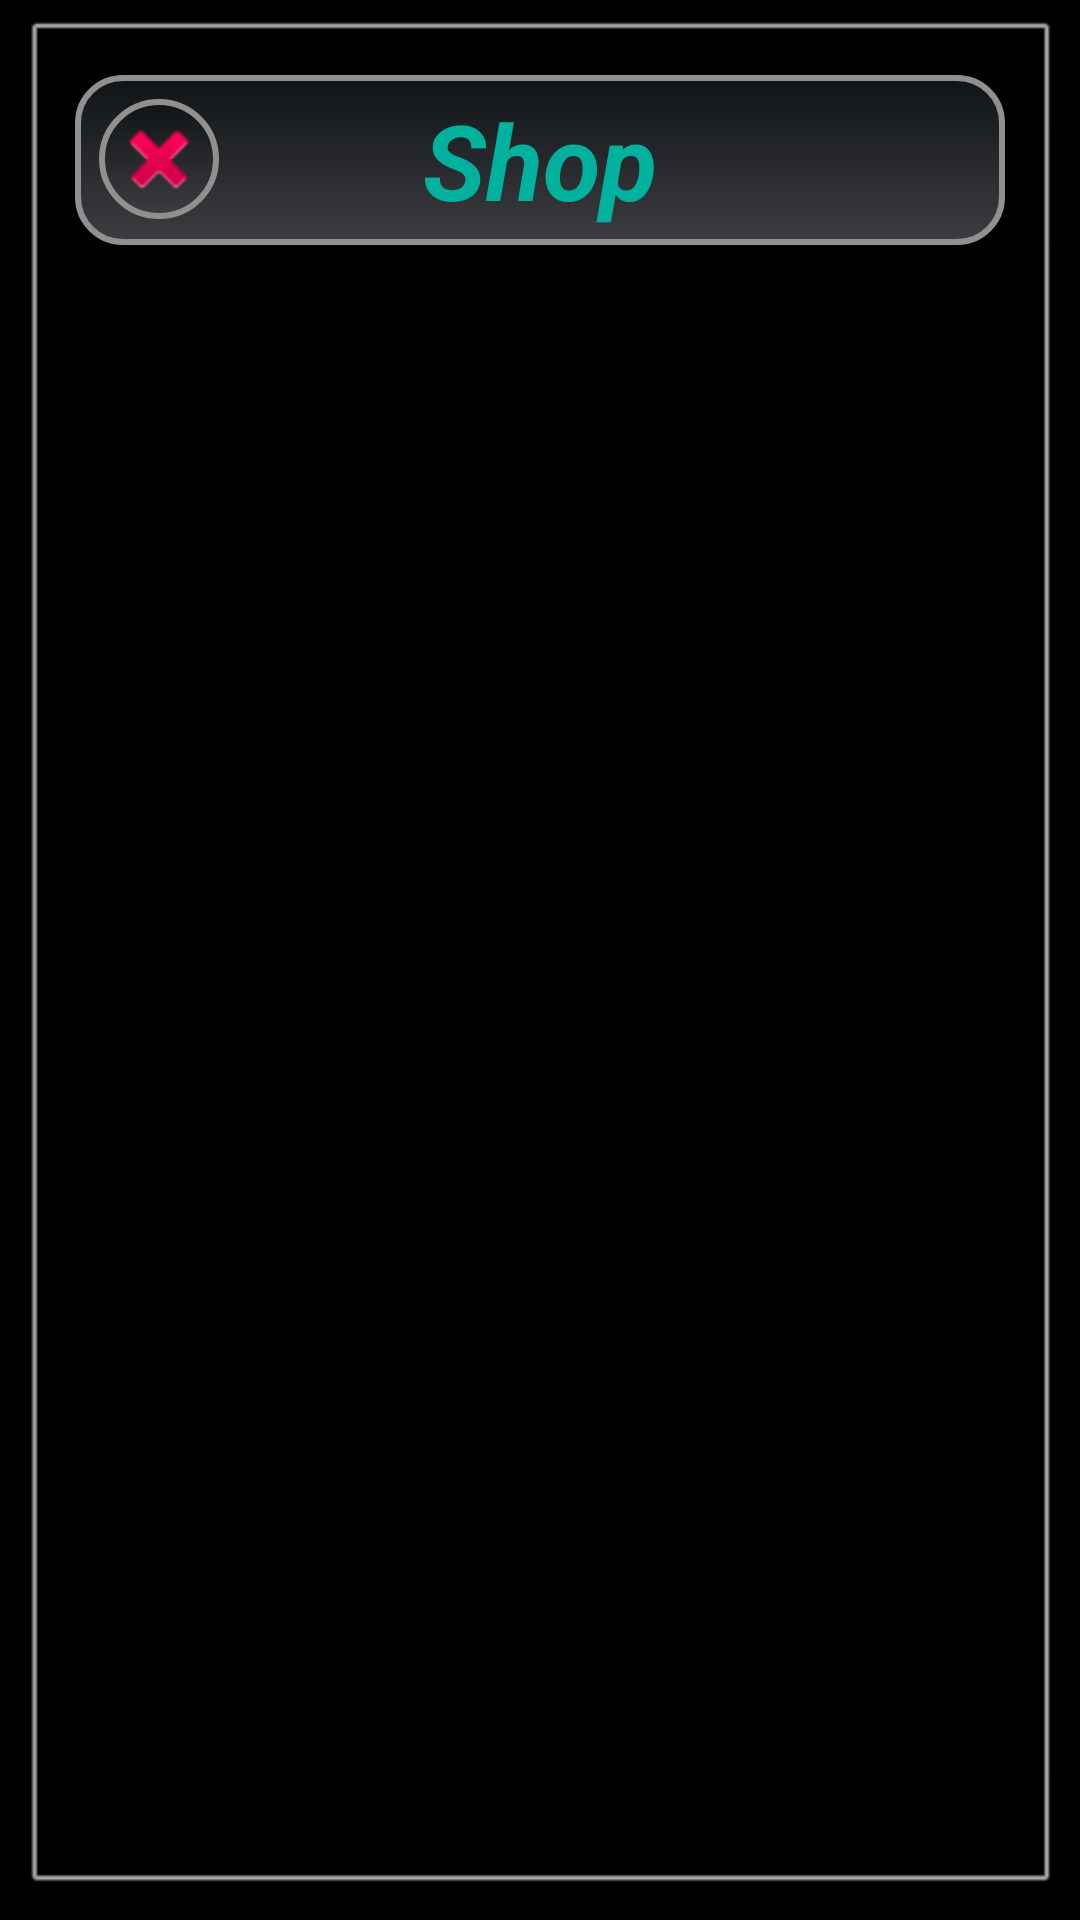

Where to tap for icons on this 1080w x 1920h app screen, as (x=x, y=y):
delete: (x=159, y=159)
